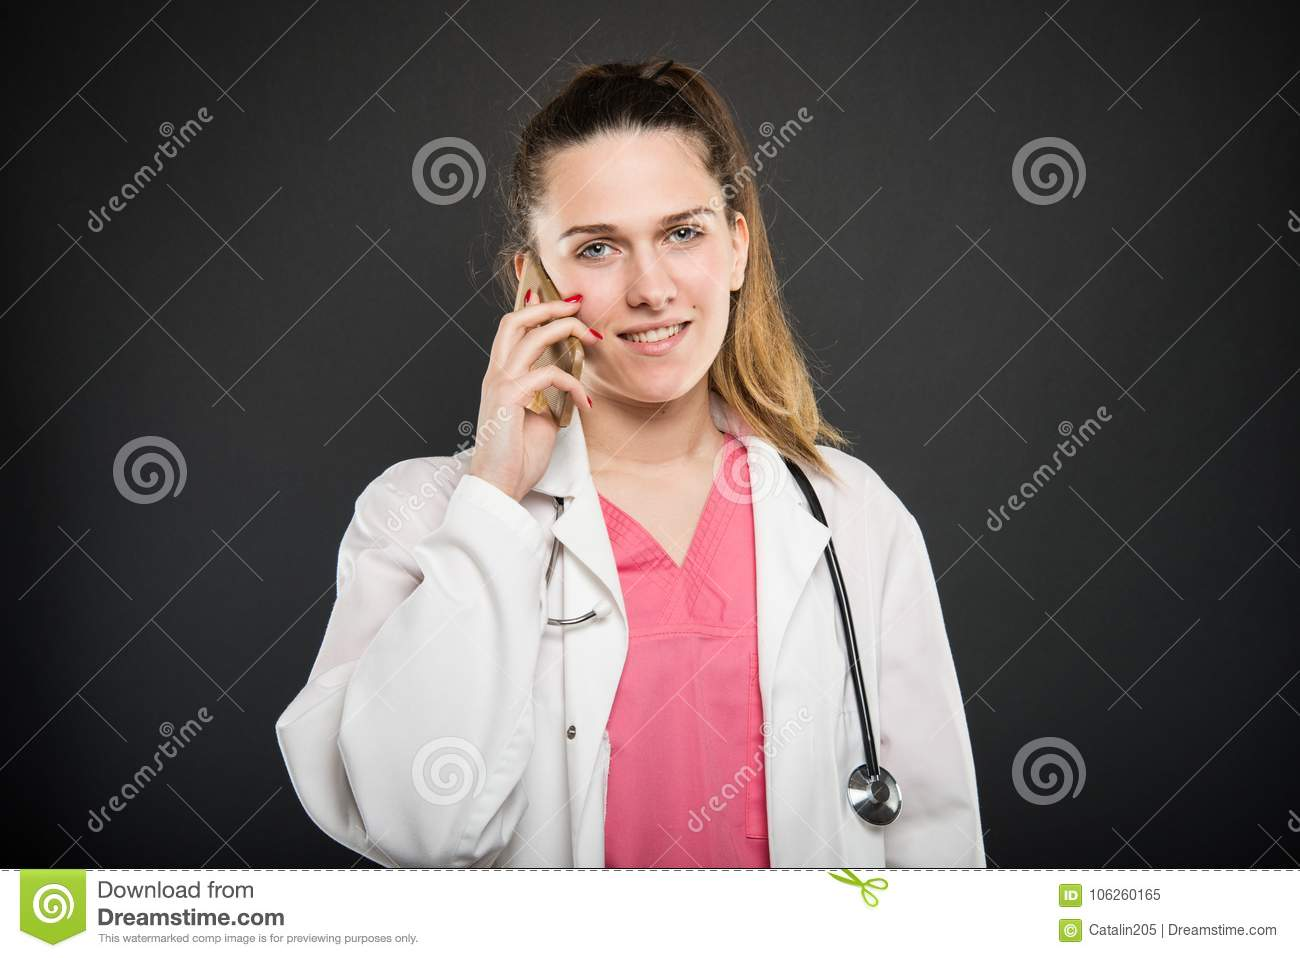phone: (513, 253, 587, 436)
talk: (472, 192, 723, 484)
